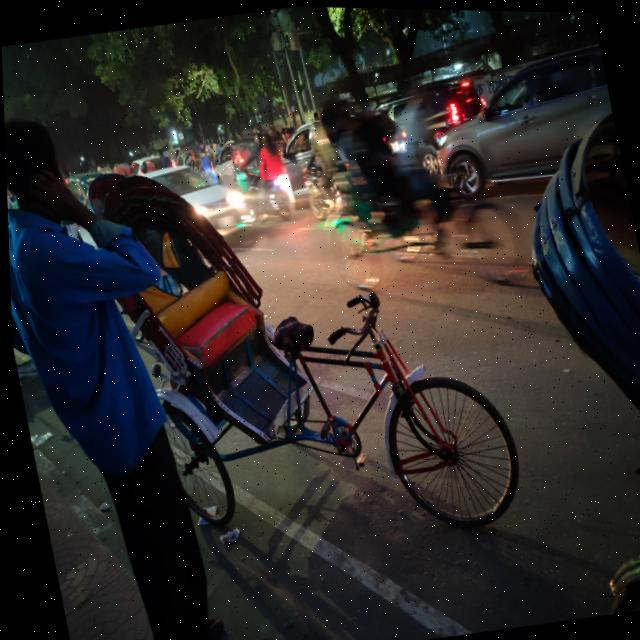rikshaw: (51, 95, 536, 609)
